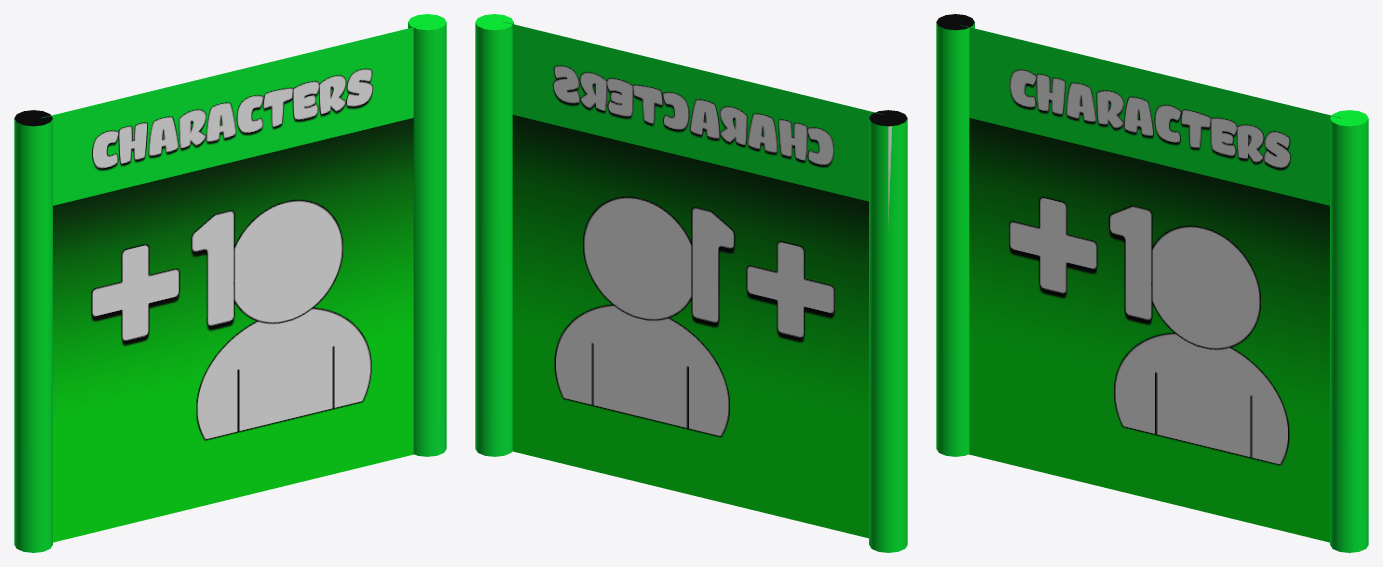
The model's file is cong.fbx.
3 views of the same model, side by side, from view 1: azimuth 30°, elevation 25°; view 2: azimuth 150°, elevation 25°; view 3: azimuth 330°, elevation 25° (orthographic).
Visible parts, largest first — view 1: pCube2; view 2: pCube2; view 3: pCube2.
Boxes of the visible parts, <box> form: pCube2: <box>14,14,446,552</box>; pCube2: <box>475,14,907,552</box>; pCube2: <box>936,14,1368,552</box>.
Size of the model in its own units: 13.19 by 12.6 by 1.03.
